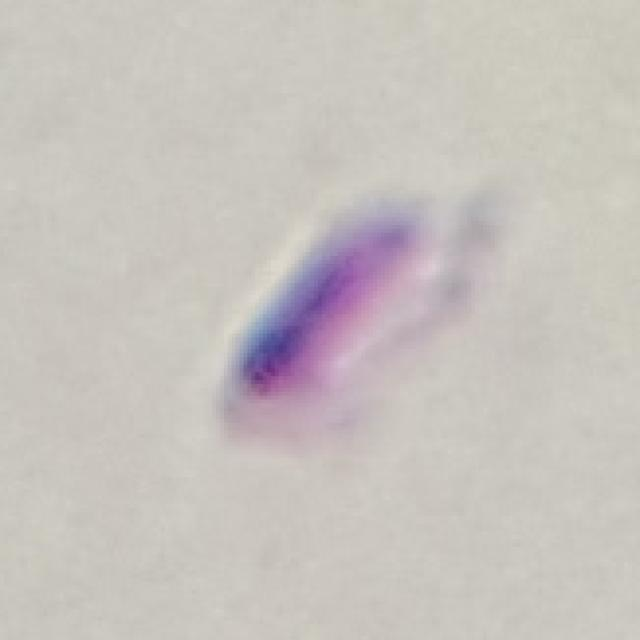non-sperm: (202, 178, 478, 464)
